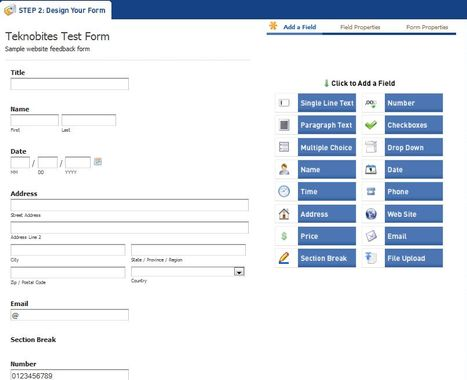_form_: (1, 1, 324, 380), (213, 1, 467, 380)
button: (296, 92, 358, 113), (295, 114, 357, 135), (294, 136, 356, 157), (295, 158, 357, 179), (295, 181, 357, 202), (294, 203, 356, 224), (294, 225, 356, 246), (294, 247, 356, 268), (382, 91, 444, 112), (381, 114, 443, 135), (382, 137, 444, 158), (382, 159, 444, 180), (381, 180, 443, 201), (382, 203, 444, 224), (382, 225, 444, 246), (382, 248, 444, 269)
field: (9, 219, 250, 236), (8, 198, 251, 213), (9, 307, 128, 324), (8, 242, 126, 257), (9, 76, 130, 90), (130, 243, 247, 257), (9, 367, 131, 380), (8, 266, 126, 279), (129, 266, 245, 278), (60, 113, 116, 127), (9, 112, 60, 127), (63, 155, 93, 169), (36, 155, 60, 170), (8, 155, 31, 170)
field_with_label: (7, 191, 253, 214), (8, 218, 252, 239), (8, 300, 130, 325), (8, 69, 132, 92), (8, 359, 131, 380), (6, 264, 128, 285), (6, 241, 127, 262), (128, 242, 249, 262), (130, 265, 246, 284), (8, 105, 62, 130), (7, 149, 32, 171)
